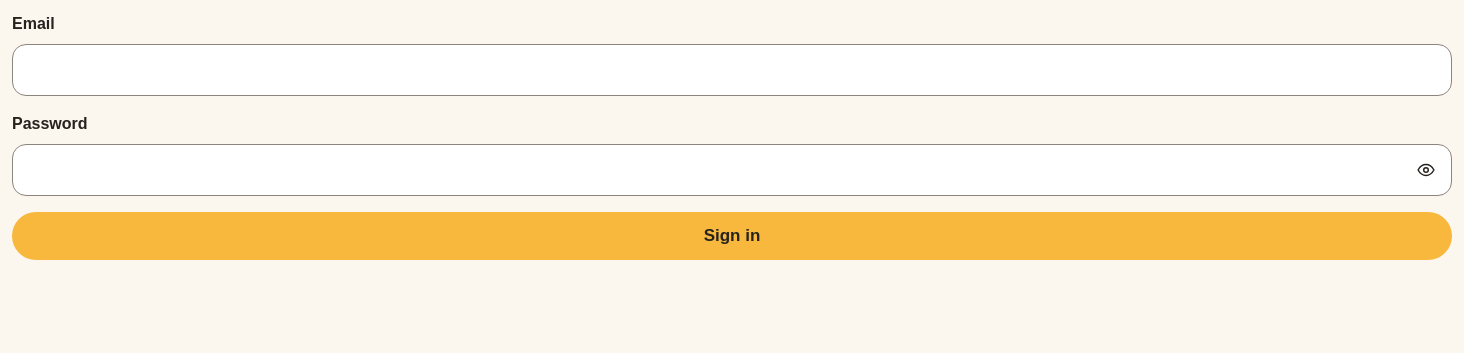
Test: LoginForm › a invalidCredentials refusal shows its notice, keeps the email and clears the password
Type "mira@example.com" into the field labelled "Email" at (732, 70), box [12,44,1452,96]
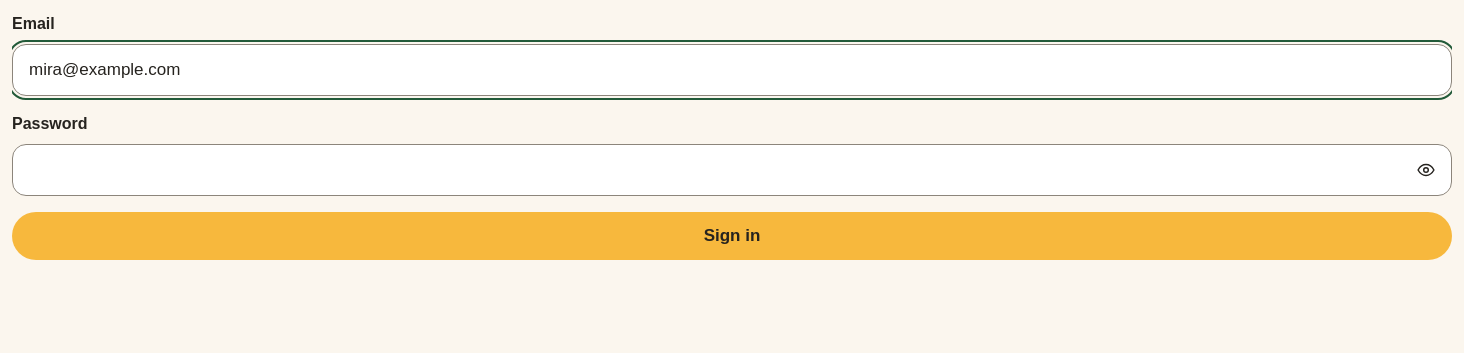
Type "not-the-password" into the password field labelled "Password" at (732, 170), box [12,144,1452,196]
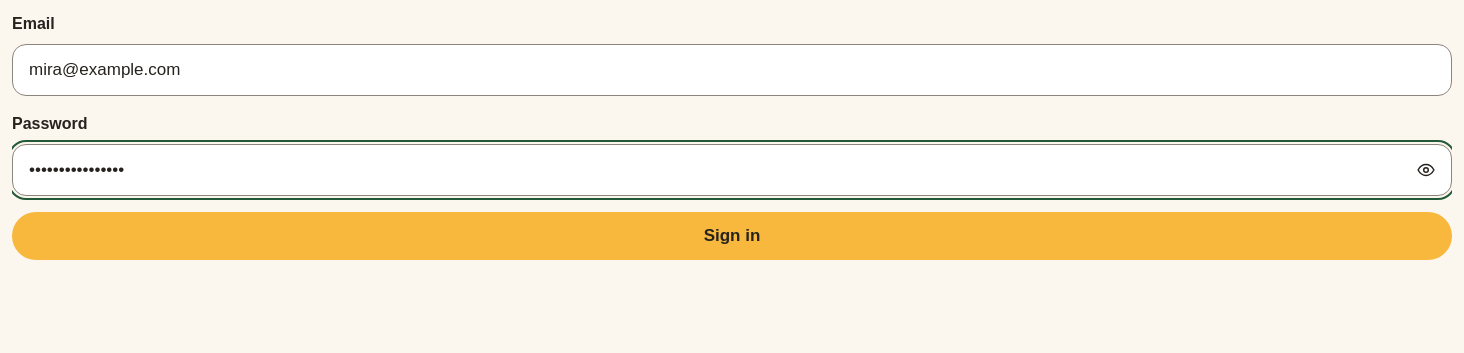
Click the button "Sign in" at (732, 236), box [12,212,1452,260]
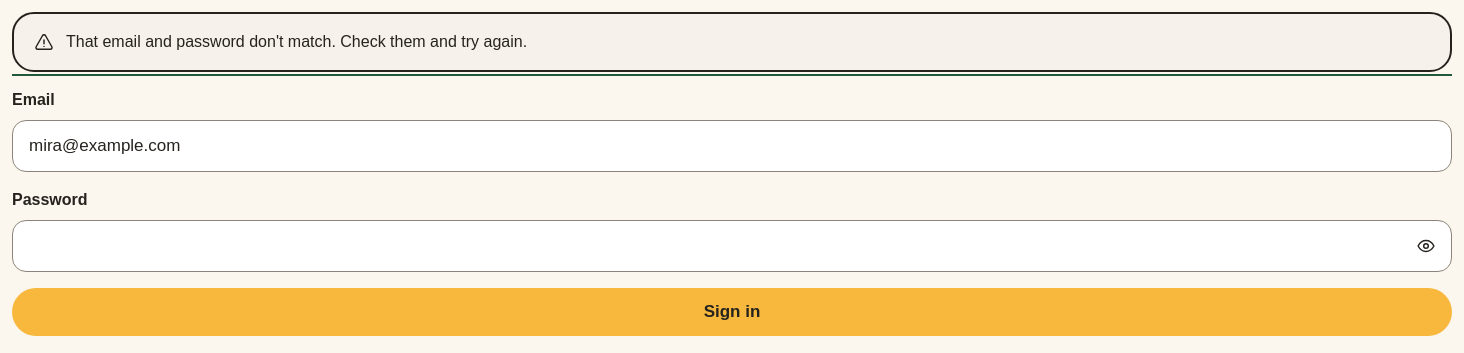
Expected: the text "That email and password don't match. Check them and try again." is shown, [66,33,527,50]
Expected: the password field labelled "Password" is empty, [12,220,1452,272]
